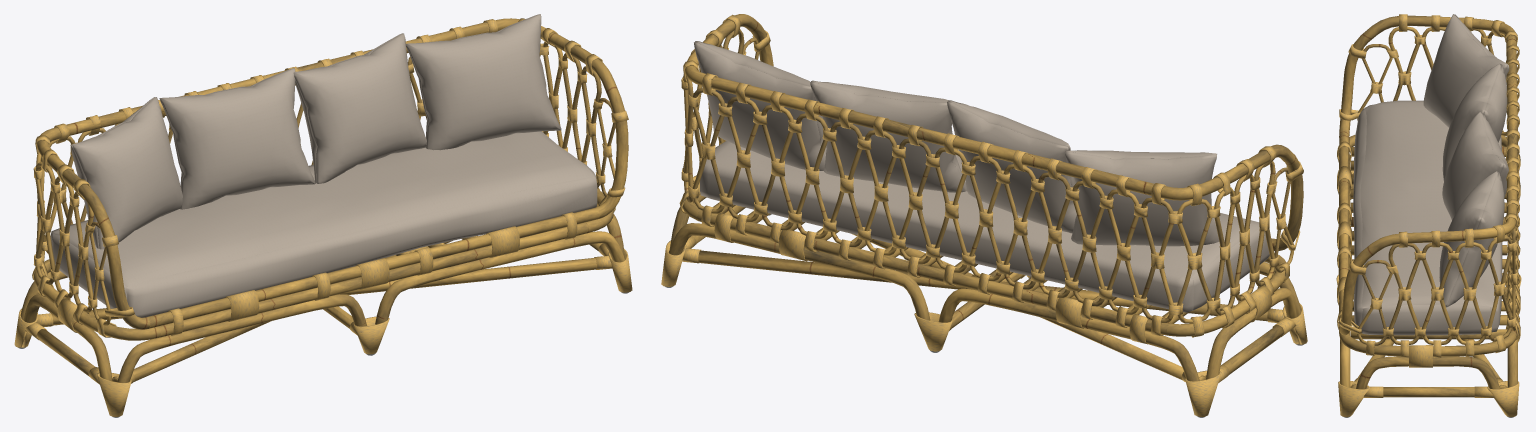
File: rattan_sofa.glb
The picture shows the model from 3 angles, left to right: view 1: azimuth 30°, elevation 25°; view 2: azimuth 150°, elevation 25°; view 3: azimuth 270°, elevation 25°; orthographic projection. The views are drawn at different scales.
Parts seen in each view (by area): view 1: geo_metal; view 2: geo_metal; view 3: geo_metal.
Boxes of the visible parts, bbox=[...] form: geo_metal: bbox=[14, 14, 632, 417]; geo_metal: bbox=[661, 14, 1307, 417]; geo_metal: bbox=[1336, 14, 1521, 417].
Size of the model in its own units: 2 by 0.825 by 0.6974.
Materials: 4 (4 with a texture image).
